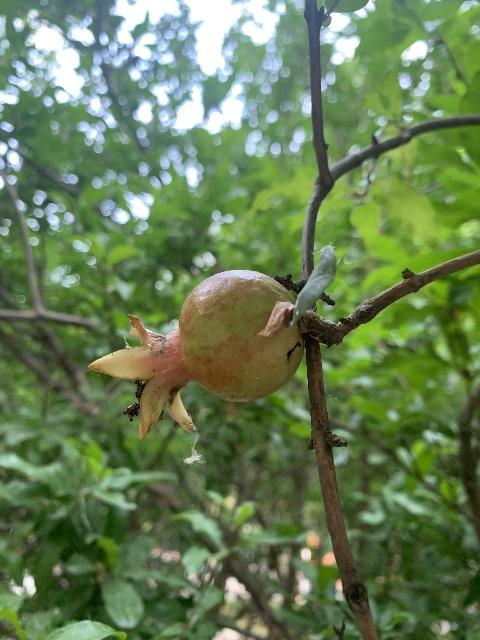early-fruit: (89, 271, 302, 440)
